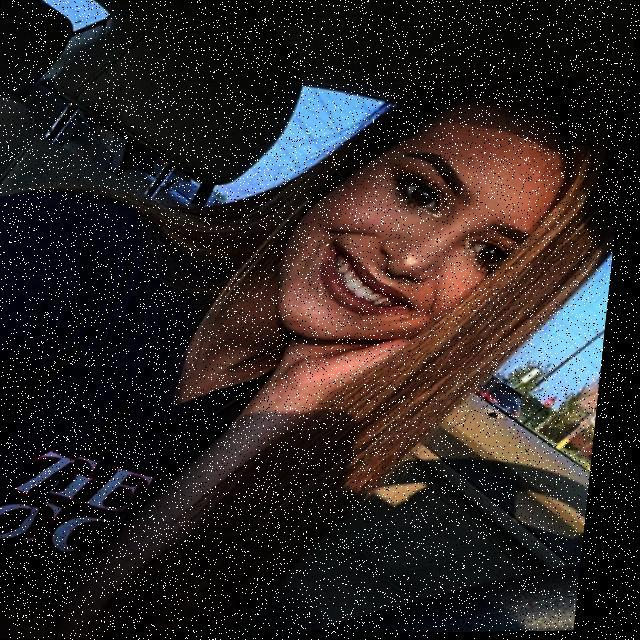noSeatbelt: (0, 204, 364, 640)
